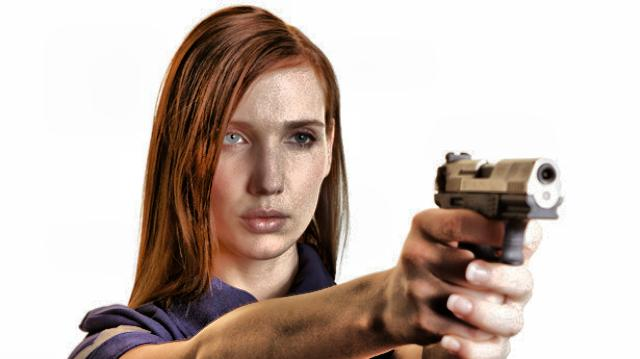pistol: (432, 150, 564, 264)
